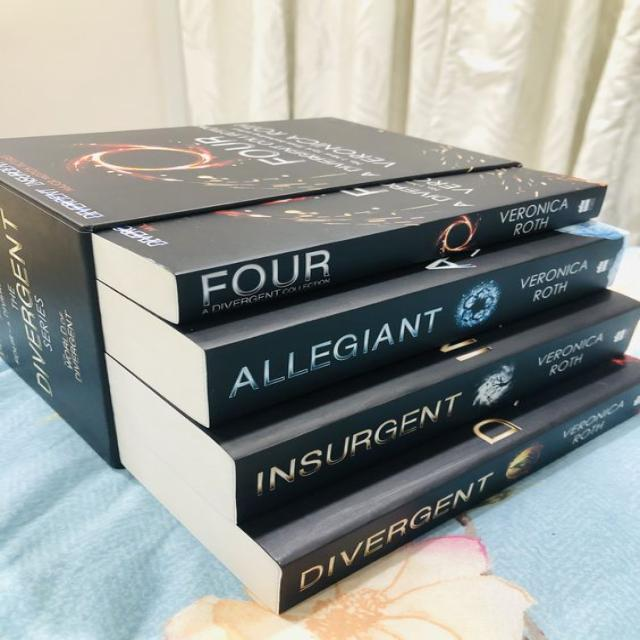book: (282, 371, 640, 615), (235, 308, 632, 525), (209, 231, 633, 429), (178, 189, 602, 323)
